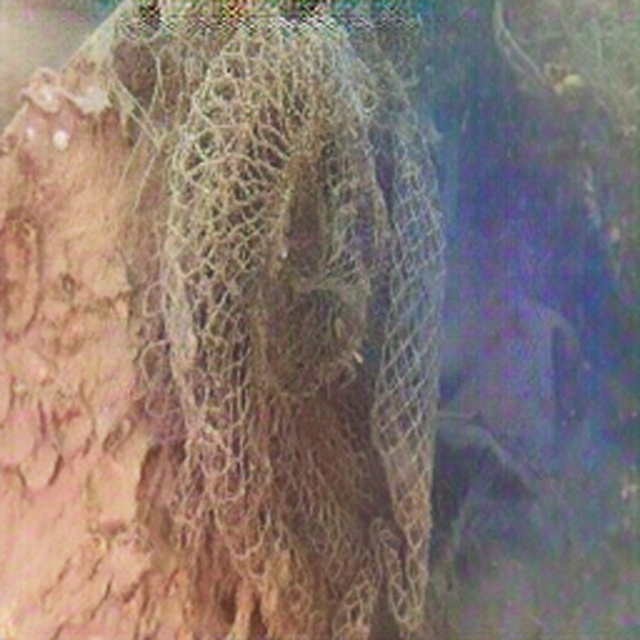mine: (140, 0, 445, 640)
